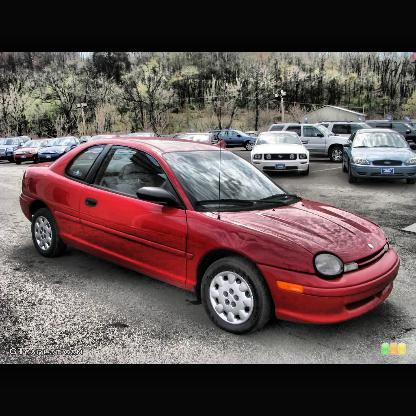Plymouth Neon Coupe 1999: (18, 137, 401, 340)
